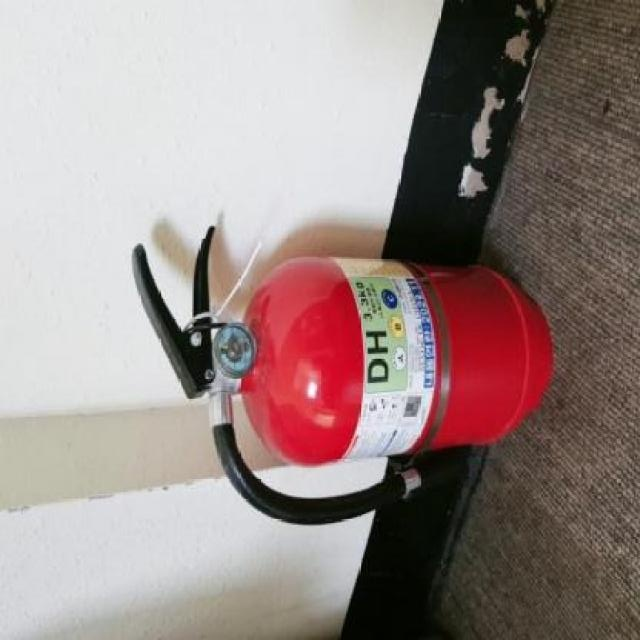fire extinguisher: (132, 225, 553, 526)
